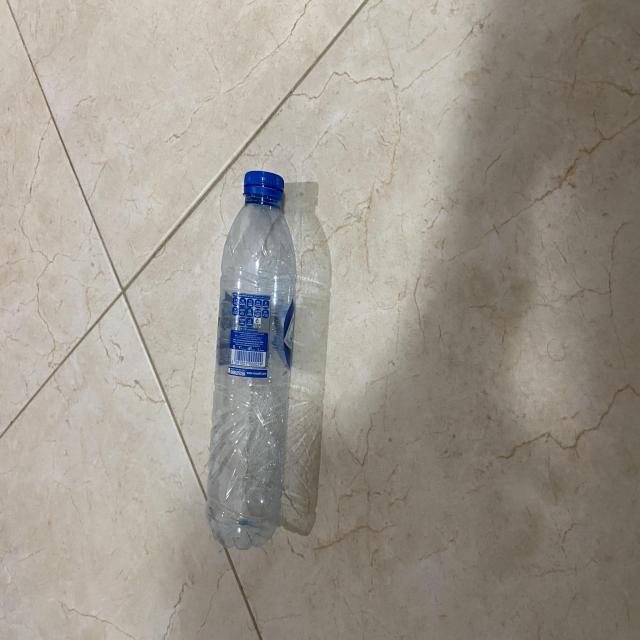plastic: (204, 170, 297, 550)
